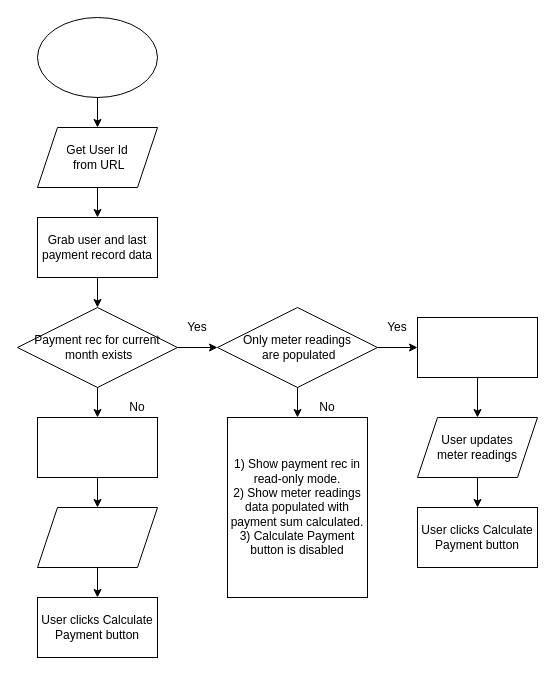
This 555x675 diagram has some shape labels left out. Each missing label, with the centre of its shape:
Show empty fields for new payment record creation: point (97, 447)
Show user payment record data in edit mode: point (477, 347)
Start: point (97, 57)
User enters meter readings: point (97, 537)
